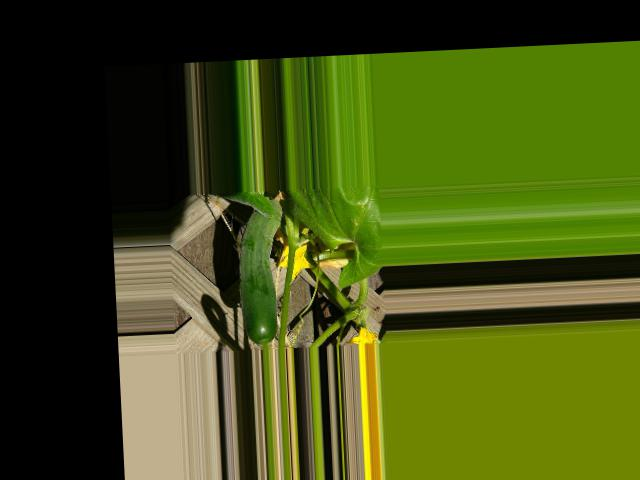cucumber: (234, 190, 288, 343)
